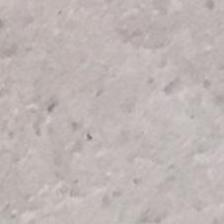Non_Crack: (4, 4, 190, 170)
